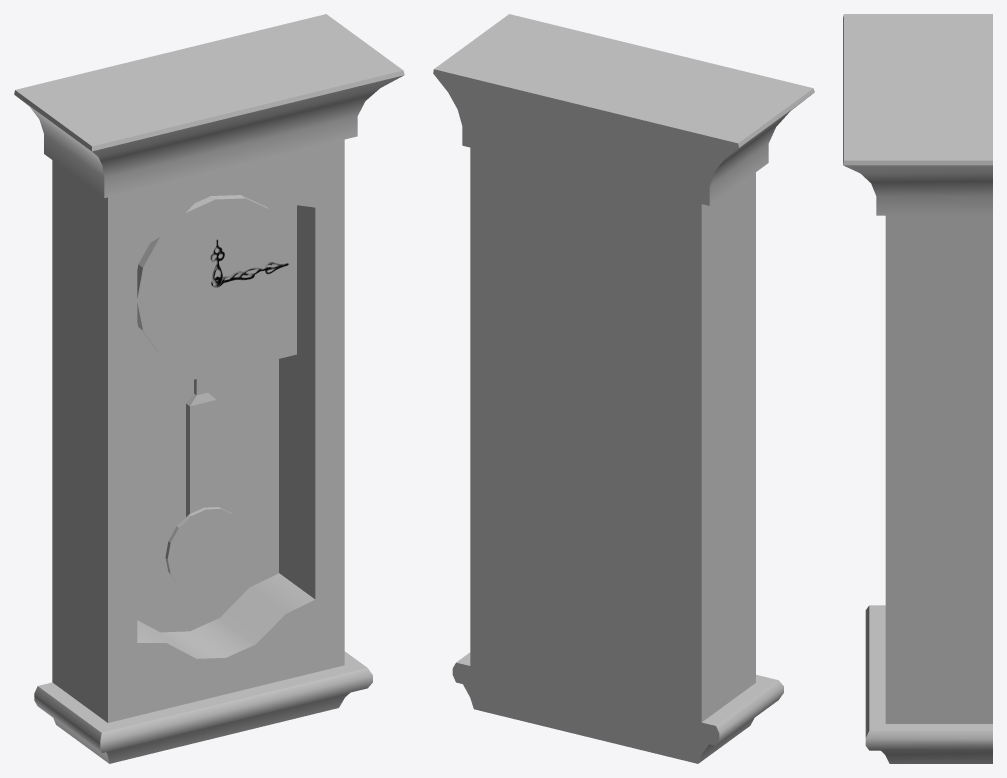
File: Old_Clock.fbx
3 views of the same model, side by side, from view 1: azimuth 30°, elevation 25°; view 2: azimuth 150°, elevation 25°; view 3: azimuth 270°, elevation 25° (orthographic). The views are drawn at different scales.
Visible parts, largest first — view 1: Clock, Old_Clock_Pendulum; view 2: Clock; view 3: Clock.
Boxes of the visible parts, x1=… form: Clock: x1=14, y1=14, x2=404, y2=763; Old_Clock_Pendulum: x1=165, y1=376, x2=244, y2=590; Clock: x1=433, y1=14, x2=814, y2=763; Clock: x1=843, y1=14, x2=992, y2=763.
Size of the model in its own units: 47.99 by 94.46 by 20.61.
